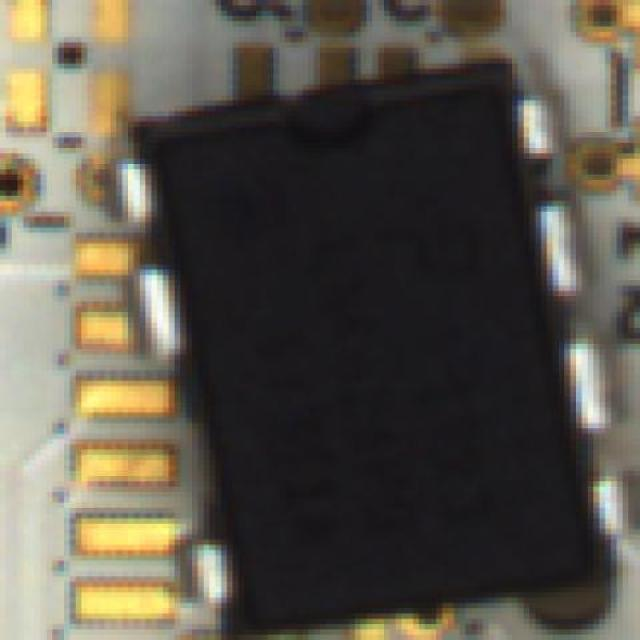IC: (77, 62, 608, 610)
